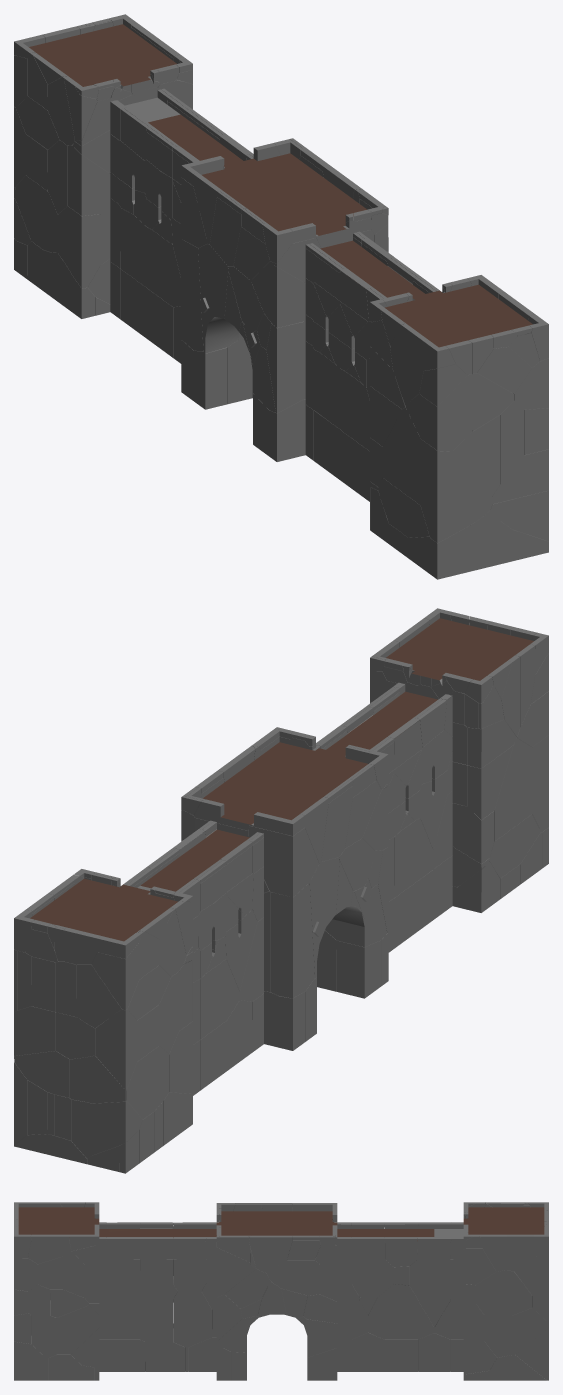
Rendered from DestroyZamok (1).fbx.
The picture shows the model from 3 angles, top to bottom: view 1: azimuth 30°, elevation 25°; view 2: azimuth 150°, elevation 25°; view 3: azimuth 270°, elevation 25°; orthographic projection. The views are drawn at different scales.
Parts seen in each view (by area): view 1: Cube.005, Cube.006, Cube.004, Cube.015_cell.038, Cube.015_cell.008, Cube.011_cell.013, Cube.011_cell.054, Cube.046_cell.053, Plane.004, Cube.015_cell.062, Plane.003, Cube.015_cell.090 (+65 smaller); view 2: Cube.005, Cube.004, Cube.006, Cube.011_cell.086, Cube.015_cell.062, Plane.004, Cube.046_cell.065, Cube.011_cell.057, Plane.003, Cube.011_cell.088, Cube.046_cell.059, Plane.001_cell (+71 smaller); view 3: Cube.005, Plane.085_cell.038, Cube.004, Cube.006, Cube.046_cell.061, Plane.001_cell.019, Cube.015_cell.089, Cube.011_cell.016, Plane.085_cell.024, Plane.001_cell.025, Plane.001_cell.039, Cube.011_cell.027 (+86 smaller).
Part boxes in pixels (x1,y1,x2,y2): Cube.005: (202,153,366,235); Cube.006: (29,24,176,86); Cube.004: (385,284,532,347); Cube.015_cell.038: (420,439,492,542); Cube.015_cell.008: (405,374,472,451); Cube.011_cell.013: (198,244,238,353); Cube.011_cell.054: (266,321,303,413); Cube.046_cell.053: (58,206,100,288); Plane.004: (125,97,242,165); Cube.015_cell.062: (383,407,420,504); Plane.003: (320,240,424,297); Cube.015_cell.090: (452,415,499,495); Cube.005: (203,742,367,824); Cube.004: (386,618,533,680); Cube.006: (30,878,177,941); Cube.011_cell.086: (248,826,319,897); Cube.015_cell.062: (494,738,532,841); Plane.004: (137,829,249,891); Cube.046_cell.065: (95,1009,137,1090); Cube.011_cell.057: (271,892,294,998); Plane.003: (326,691,437,754); Cube.011_cell.088: (336,940,380,998); Cube.046_cell.059: (126,1046,169,1119); Plane.001_cell: (394,818,433,897); Cube.005: (216,1211,337,1235); Plane.085_cell.038: (368,1284,434,1339); Cube.004: (18,1207,99,1237); Cube.006: (463,1207,544,1234); Cube.046_cell.061: (475,1270,532,1315); Plane.001_cell.019: (173,1291,211,1347); Cube.015_cell.089: (56,1305,99,1354); Cube.011_cell.016: (266,1260,319,1295); Plane.085_cell.024: (351,1259,393,1297); Plane.001_cell.025: (140,1299,172,1342); Plane.001_cell.039: (107,1299,139,1339); Cube.011_cell.027: (249,1235,292,1272).
Size of the model in its own units: 138 by 264 by 886.
